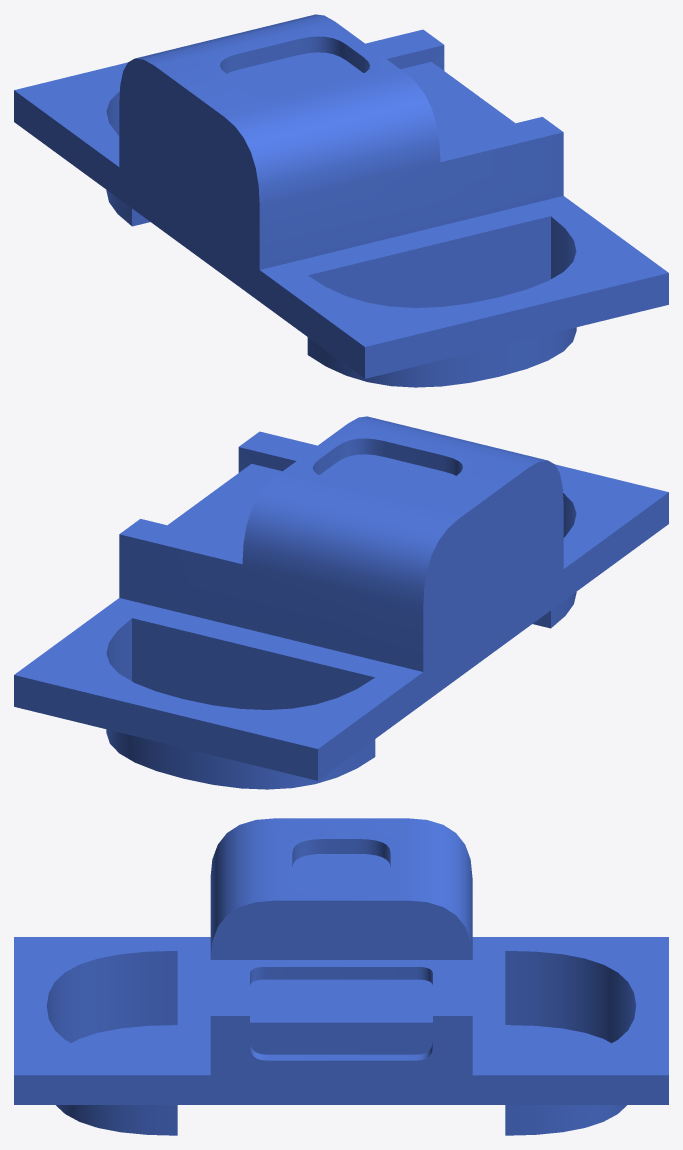
File: Ceiling_2x1m_D_End.FBX
The picture shows the model from 3 angles, top to bottom: view 1: azimuth 30°, elevation 25°; view 2: azimuth 150°, elevation 25°; view 3: azimuth 270°, elevation 25°; orthographic projection. The views are drawn at different scales.
Parts seen in each view (by area): view 1: Ceiling_2x1m_D_End; view 2: Ceiling_2x1m_D_End; view 3: Ceiling_2x1m_D_End.
Boxes of the visible parts, <box> form: Ceiling_2x1m_D_End: <box>14,14,668,387</box>; Ceiling_2x1m_D_End: <box>14,416,668,789</box>; Ceiling_2x1m_D_End: <box>14,818,668,1135</box>.
Bounding box in the file's own units: 100 × 65 × 200.
